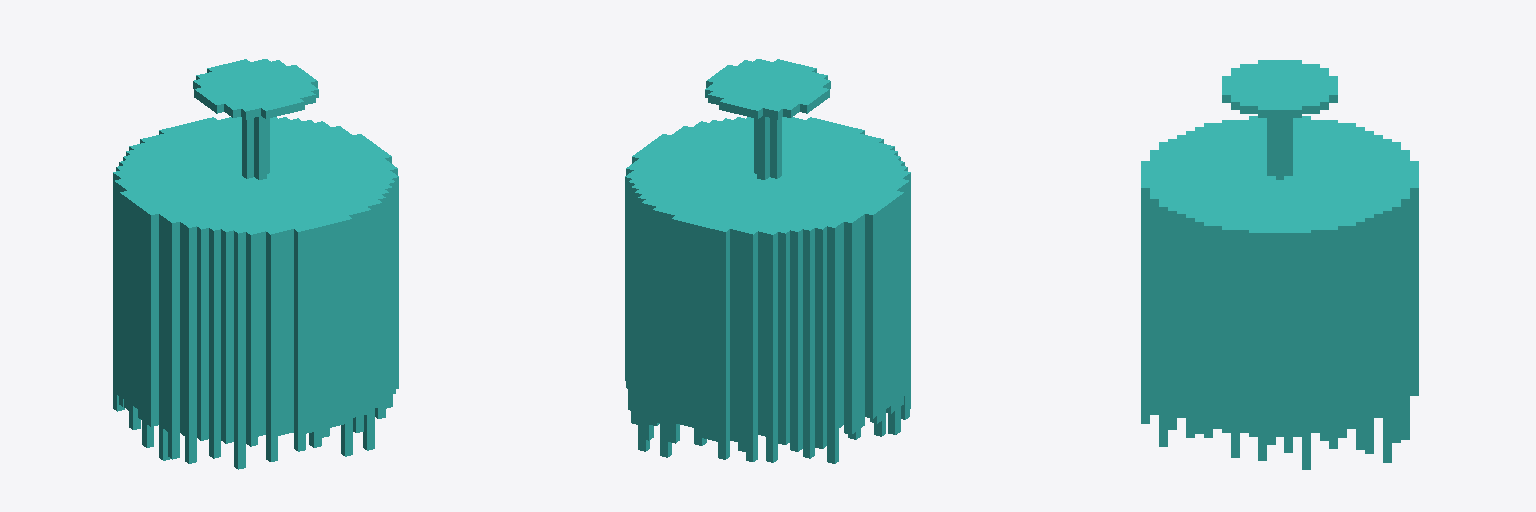
3 renders of one model, left to right at view 1: azimuth 30°, elevation 25°; view 2: azimuth 150°, elevation 25°; view 3: azimuth 270°, elevation 25°, orthographic.
Parts seen in each view (by area): view 1: chandlier; view 2: chandlier; view 3: chandlier.
Part boxes in pixels (x1,y1,x2,y2): chandlier: (113, 59, 398, 469); chandlier: (625, 59, 910, 463); chandlier: (1141, 60, 1418, 469).
Size of the model in its own units: 31 by 42 by 31.
Materials: 1 (1 with a texture image).